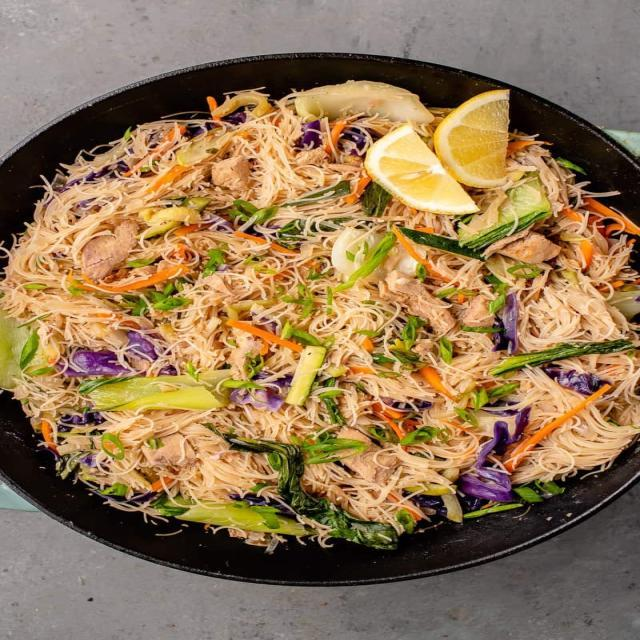pancit bihon: (16, 69, 640, 546)
